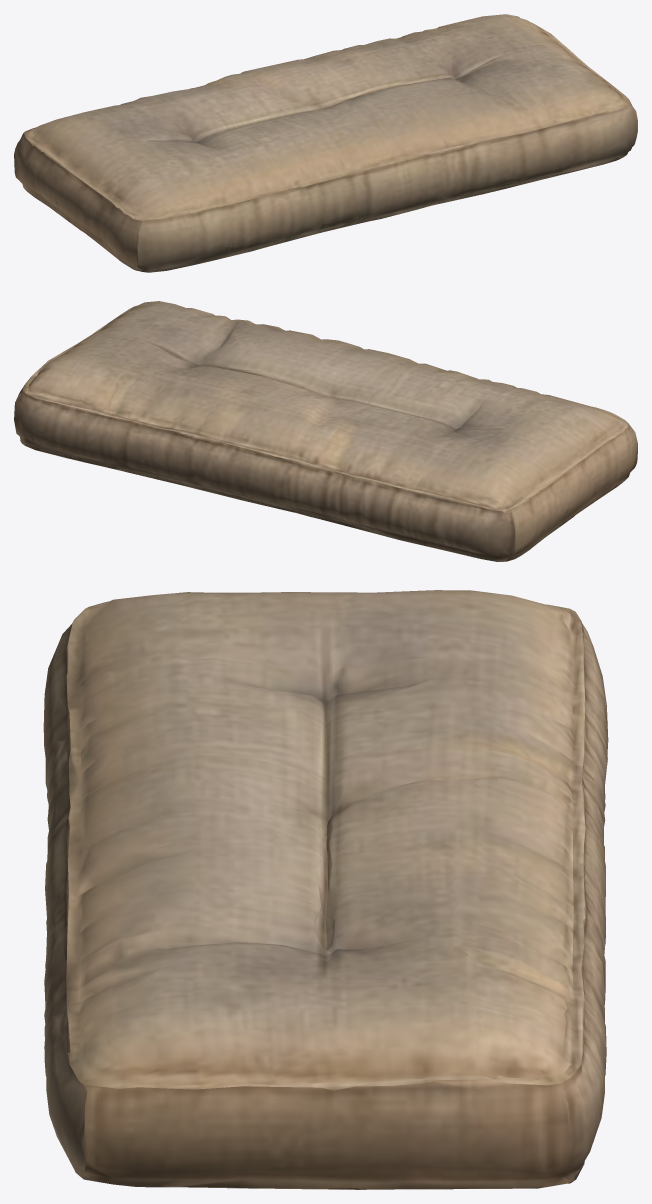
The picture shows the model from 3 angles, top to bottom: view 1: azimuth 30°, elevation 25°; view 2: azimuth 150°, elevation 25°; view 3: azimuth 270°, elevation 25°; orthographic projection. The views are drawn at different scales.
Visible parts, largest first — view 1: geometry_0; view 2: geometry_0; view 3: geometry_0.
Part boxes in pixels (<box>): geometry_0: <box>14,14,637,272</box>; geometry_0: <box>14,301,637,561</box>; geometry_0: <box>43,590,608,1189</box>.
Bounding box in the file's own units: 1.2 × 0.1896 × 0.5694.
1 material, 1 textured.
